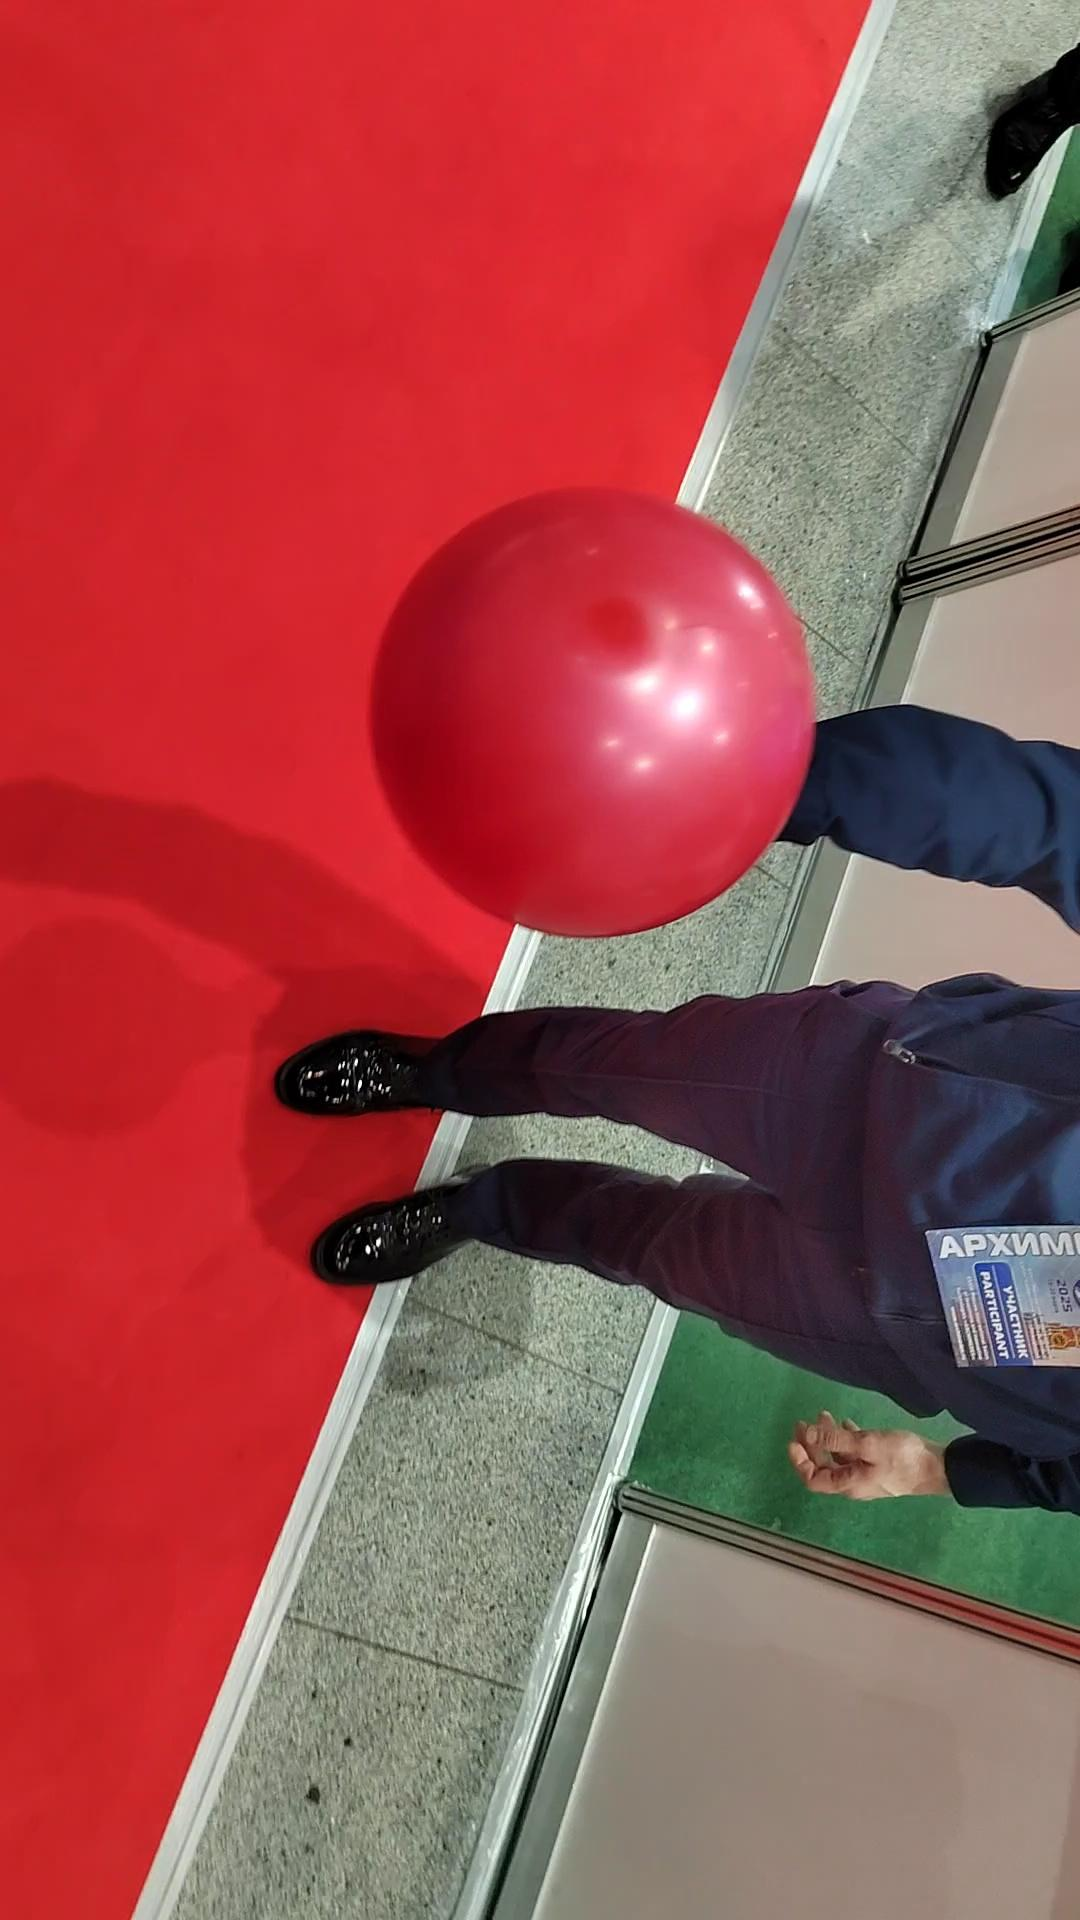red: (356, 481, 822, 947)
